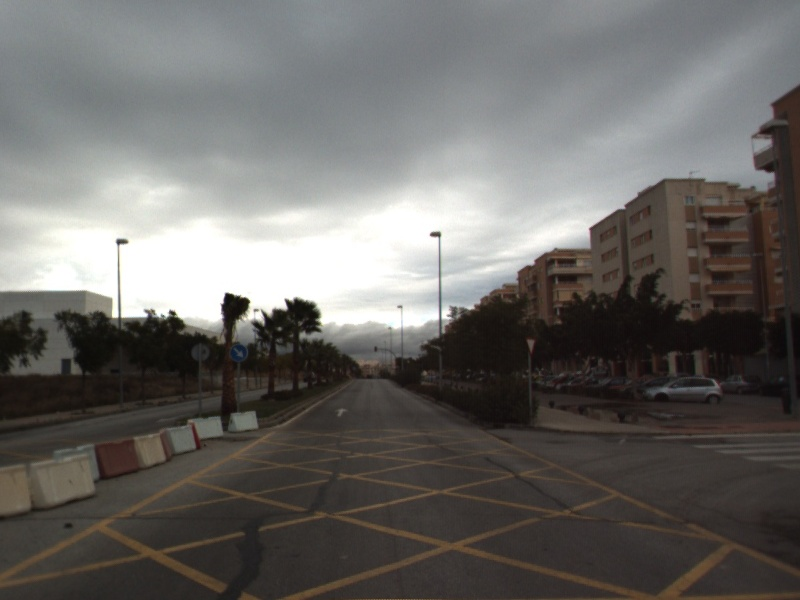STRAIGHT: (333, 406, 351, 419)
